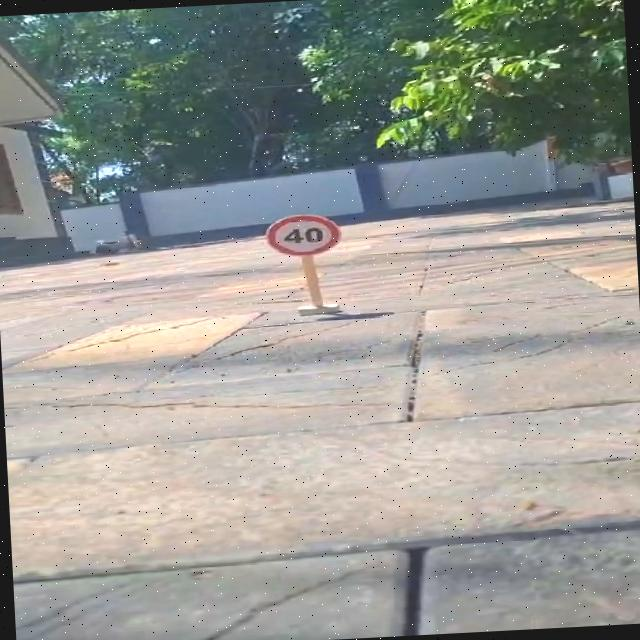Speed40: (262, 208, 346, 260)
